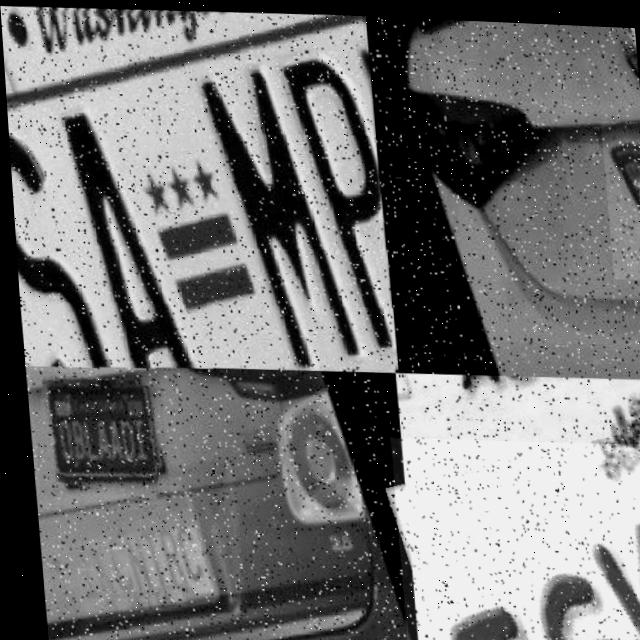LicensePlate: (0, 0, 391, 376), (383, 429, 640, 640), (24, 368, 163, 497), (599, 114, 640, 275)
